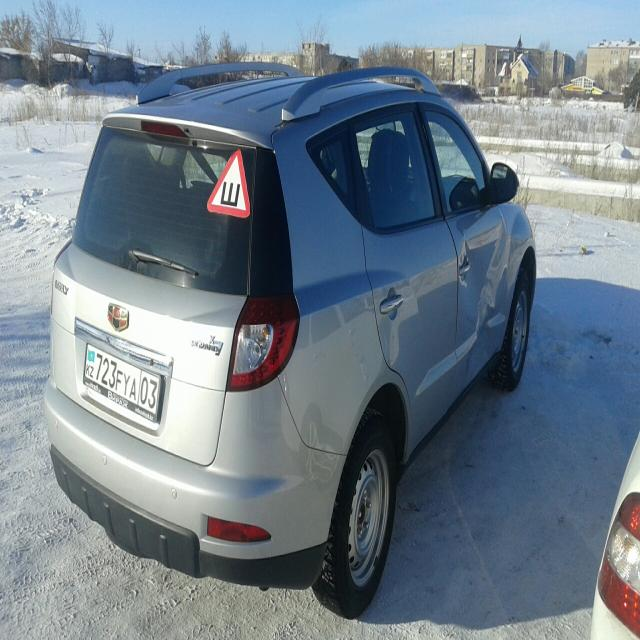Cabossage: (301, 414, 338, 498), (464, 297, 498, 373), (378, 322, 416, 376)
